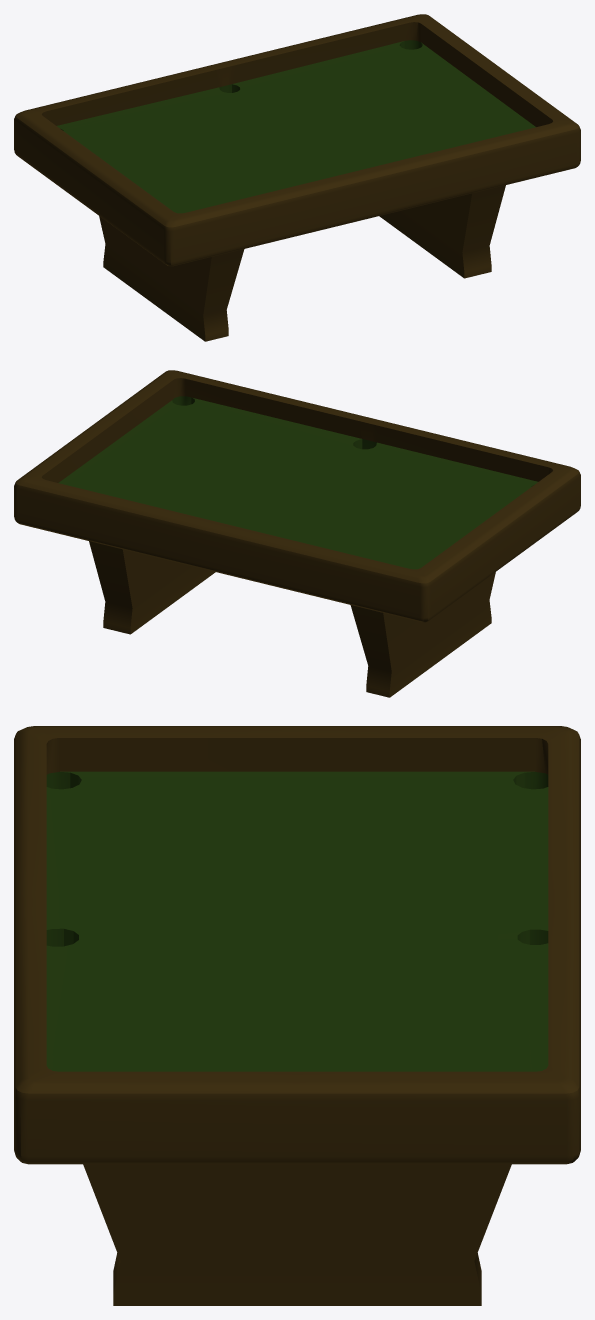
File: billjard.fbx
3 renders of one model, top to bottom at view 1: azimuth 30°, elevation 25°; view 2: azimuth 150°, elevation 25°; view 3: azimuth 270°, elevation 25°, orthographic. The views are drawn at different scales.
Visible parts, largest first — view 1: billjard; view 2: billjard; view 3: billjard.
Part boxes in pixels (<box>): billjard: <box>14,14,580,341</box>; billjard: <box>14,370,580,697</box>; billjard: <box>14,726,580,1305</box>.
Bounding box in the file's own units: 11.21 × 3.91 × 7.32.
